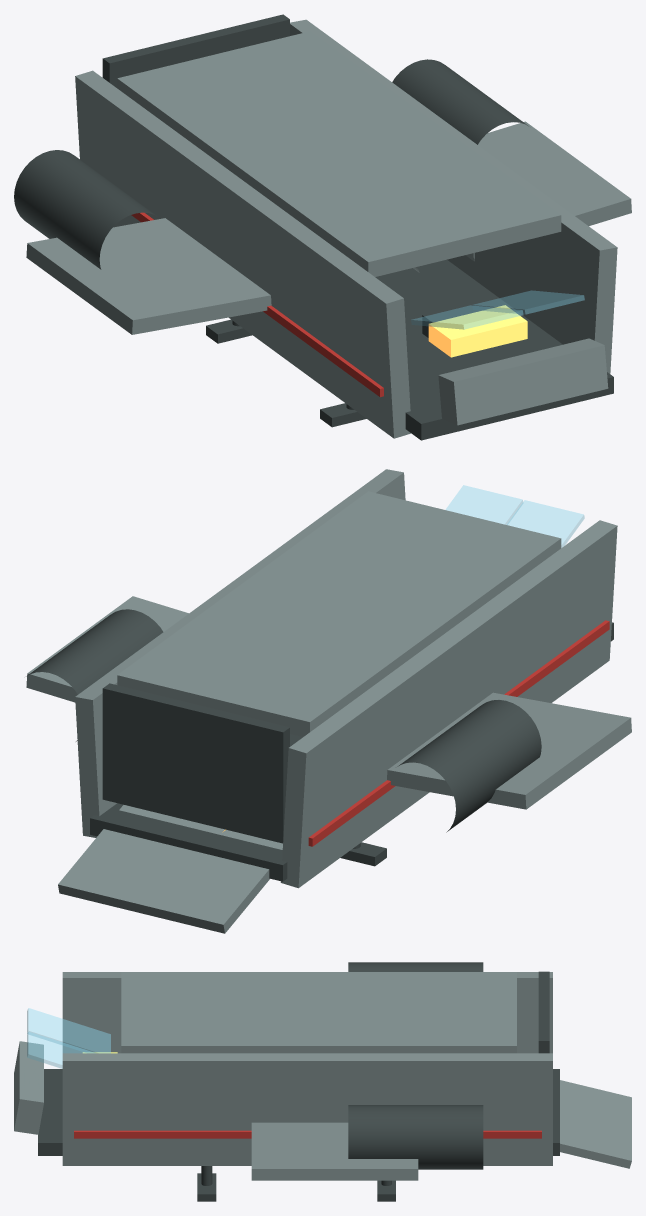
Rendered from fortis-gunship.glb.
The picture shows the model from 3 angles, top to bottom: view 1: azimuth 30°, elevation 25°; view 2: azimuth 150°, elevation 25°; view 3: azimuth 270°, elevation 25°; orthographic projection. The views are drawn at different scales.
Visible parts, largest first — view 1: roof_armor, port_hull_curve, port_wing_root, starboard_hull_curve, armored_deck, faceted_nose, port_engine_can, starboard_wing_root, starboard_engine_can, rear_pressure_bulkhead, console_glow, red_port_trim (+4 smaller); view 2: roof_armor, port_hull_curve, rear_pressure_bulkhead, rear_ramp_panel, port_wing_root, port_engine_can, starboard_hull_curve, starboard_engine_can, armored_deck, red_port_trim, starboard_wing_root, left_cockpit_glass (+2 smaller); view 3: starboard_hull_curve, roof_armor, starboard_engine_can, starboard_wing_root, port_hull_curve, rear_ramp_panel, faceted_nose, armored_deck, left_cockpit_glass, red_starboard_trim, port_engine_can, right_cockpit_glass (+3 smaller).
Part boxes in pixels (<box>): roof_armor: <box>117,31,561,276</box>; port_hull_curve: <box>75,70,410,438</box>; port_wing_root: <box>26,218,271,334</box>; starboard_hull_curve: <box>290,19,617,373</box>; armored_deck: <box>375,259,613,440</box>; faceted_nose: <box>438,338,608,425</box>; port_engine_can: <box>14,150,157,269</box>; starboard_wing_root: <box>465,121,631,260</box>; starboard_engine_can: <box>392,59,528,144</box>; rear_pressure_bulkhead: <box>102,14,289,87</box>; console_glow: <box>428,305,527,357</box>; red_port_trim: <box>131,212,383,397</box>; roof_armor: <box>117,491,561,736</box>; port_hull_curve: <box>280,520,617,888</box>; rear_pressure_bulkhead: <box>102,683,289,843</box>; rear_ramp_panel: <box>58,805,282,933</box>; port_wing_root: <box>387,692,631,809</box>; port_engine_can: <box>397,700,541,832</box>; starboard_hull_curve: <box>75,469,405,837</box>; starboard_engine_can: <box>26,609,163,741</box>; armored_deck: <box>90,622,613,881</box>; red_port_trim: <box>308,620,609,846</box>; starboard_wing_root: <box>26,596,188,702</box>; left_cockpit_glass: <box>507,500,584,547</box>; starboard_hull_curve: <box>62,1053,552,1165</box>; roof_armor: <box>121,972,516,1053</box>; starboard_engine_can: <box>348,1105,483,1169</box>; starboard_wing_root: <box>251,1122,418,1180</box>; port_hull_curve: <box>62,972,552,1053</box>; rear_ramp_panel: <box>560,1080,631,1168</box>; faceted_nose: <box>14,1041,43,1134</box>; armored_deck: <box>38,1069,559,1155</box>; left_cockpit_glass: <box>27,1008,110,1052</box>; red_starboard_trim: <box>74,1130,541,1138</box>; port_engine_can: <box>348,962,483,971</box>; right_cockpit_glass: <box>27,1032,94,1068</box>.
Bounding box in the file's own units: 10.11 × 4 × 13.74.
